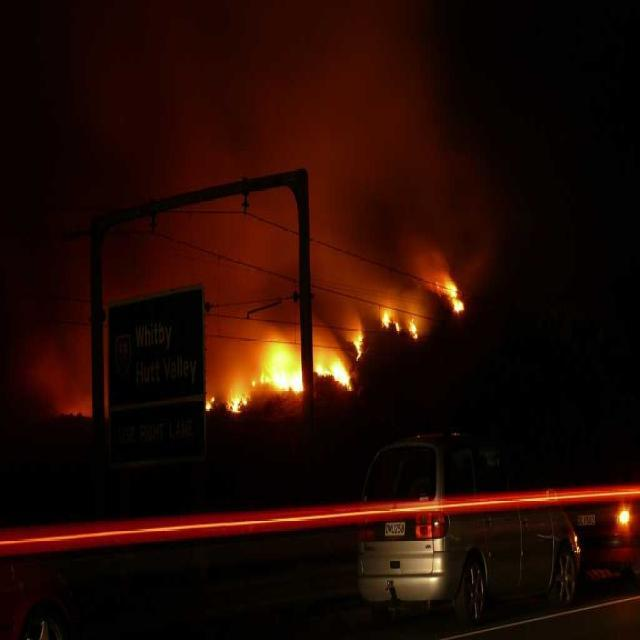Fire: (274, 362, 304, 389), (323, 365, 349, 387)
